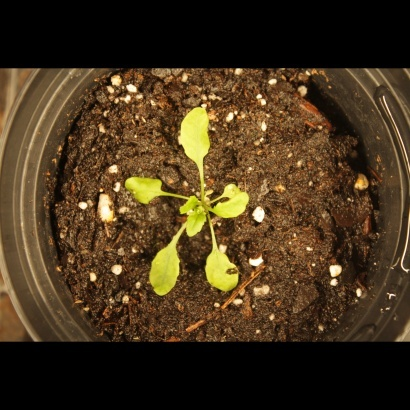leaf: (173, 103, 223, 176), (196, 242, 249, 295), (143, 237, 180, 302), (119, 169, 165, 206), (211, 193, 251, 222), (184, 209, 207, 241), (180, 192, 203, 215), (221, 179, 244, 202)
